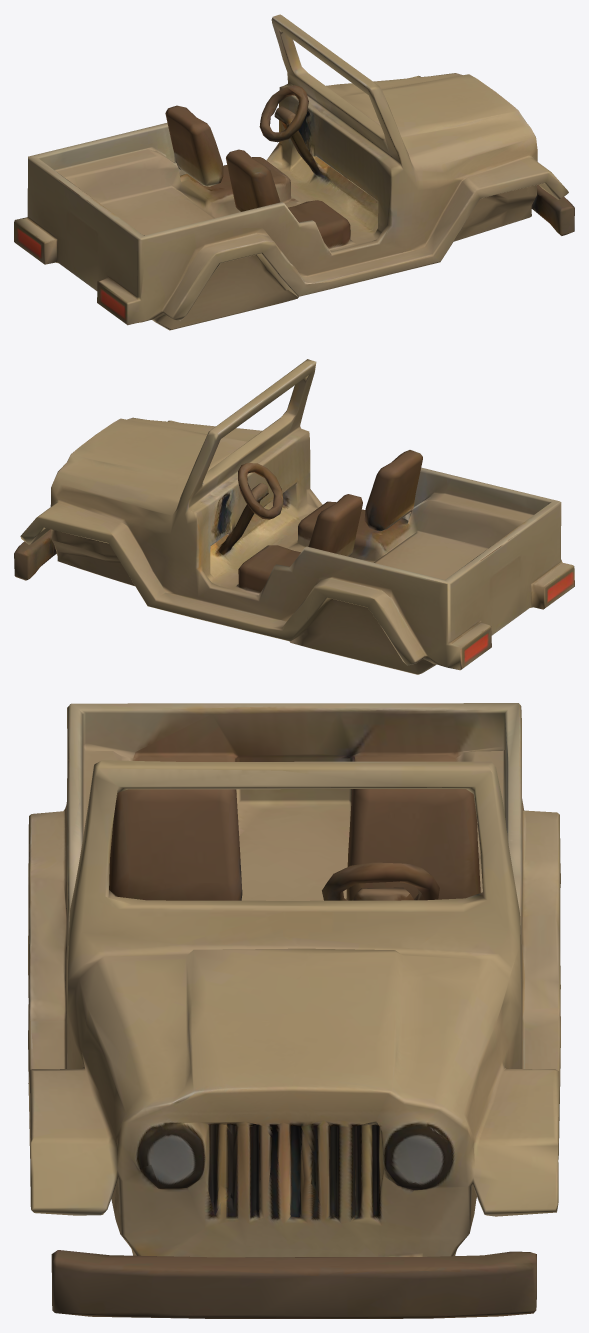
Rendered from Jeep.fbx.
The picture shows the model from 3 angles, top to bottom: view 1: azimuth 30°, elevation 25°; view 2: azimuth 150°, elevation 25°; view 3: azimuth 270°, elevation 25°; orthographic projection. The views are drawn at different scales.
Visible parts, largest first — view 1: tripo_node_6e6f2fbc-5236-46a6-a2b9-eca2cc7d51bd; view 2: tripo_node_6e6f2fbc-5236-46a6-a2b9-eca2cc7d51bd; view 3: tripo_node_6e6f2fbc-5236-46a6-a2b9-eca2cc7d51bd.
Part boxes in pixels (bbox=[...]): tripo_node_6e6f2fbc-5236-46a6-a2b9-eca2cc7d51bd: bbox=[14, 14, 574, 330]; tripo_node_6e6f2fbc-5236-46a6-a2b9-eca2cc7d51bd: bbox=[14, 359, 574, 674]; tripo_node_6e6f2fbc-5236-46a6-a2b9-eca2cc7d51bd: bbox=[28, 703, 560, 1318].
Size of the model in its own units: 94.81 by 40.43 by 48.42.
Materials: 1 (1 with a texture image).
